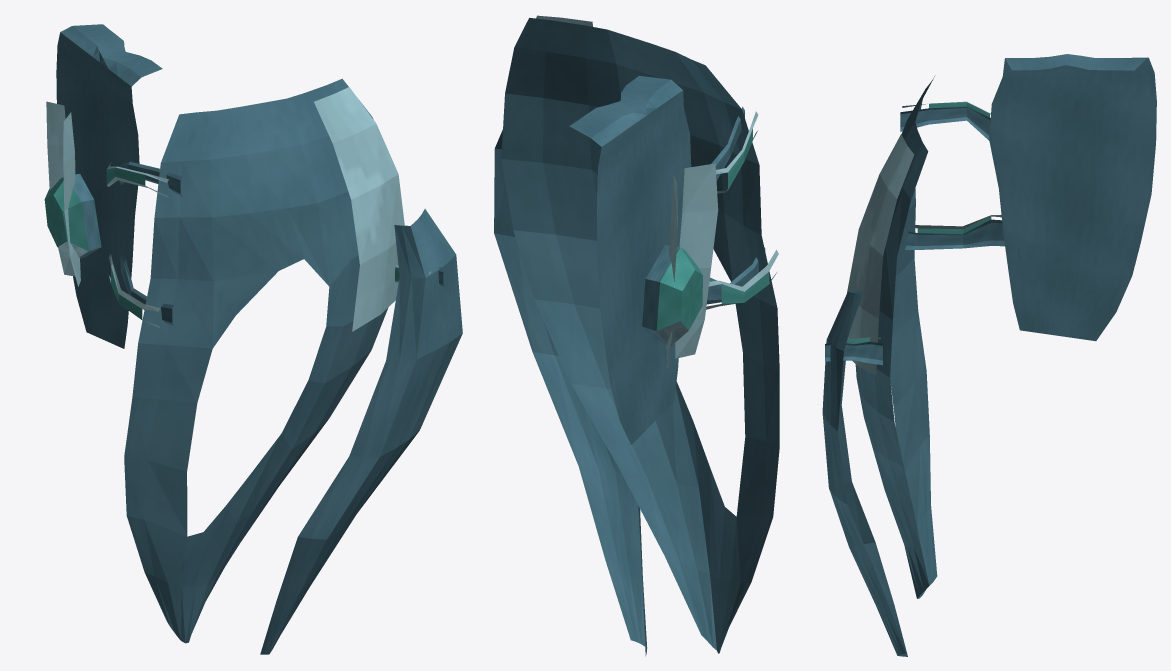
File: zhuji_baiqing_lingyun_gauntlet_3d.obj
3 views of the same model, side by side, from view 1: azimuth 30°, elevation 25°; view 2: azimuth 150°, elevation 25°; view 3: azimuth 270°, elevation 25° (orthographic). The views are drawn at different scales.
Visible parts, largest first — view 1: part_7, part_13, part_1, part_10, part_3, part_34, part_32, part_23, part_18; view 2: part_7, part_1, part_13, part_3, part_34, part_32, part_25, part_23, part_18, part_22; view 3: part_1, part_7, part_13, part_10, part_23, part_18, part_28.
Boxes of the visible parts, bbox=[...] form: part_7: bbox=[124, 78, 388, 643]; part_13: bbox=[260, 209, 462, 654]; part_1: bbox=[56, 24, 162, 348]; part_10: bbox=[314, 87, 404, 331]; part_3: bbox=[46, 101, 80, 286]; part_34: bbox=[44, 177, 88, 251]; part_32: bbox=[73, 173, 101, 258]; part_23: bbox=[120, 249, 173, 325]; part_18: bbox=[119, 159, 182, 195]; part_7: bbox=[501, 17, 779, 653]; part_1: bbox=[569, 76, 691, 444]; part_13: bbox=[494, 129, 647, 656]; part_3: bbox=[666, 163, 718, 370]; part_34: bbox=[656, 247, 702, 330]; part_32: bbox=[642, 245, 680, 345]; part_25: bbox=[721, 272, 769, 303]; part_23: bbox=[706, 247, 765, 304]; part_18: bbox=[711, 107, 744, 180]; part_22: bbox=[706, 250, 778, 309]; part_1: bbox=[989, 54, 1156, 341]; part_7: bbox=[855, 75, 937, 598]; part_13: bbox=[822, 290, 907, 656]; part_10: bbox=[847, 134, 914, 375]; part_23: bbox=[905, 219, 1004, 249]; part_18: bbox=[900, 106, 990, 140]; part_28: bbox=[825, 341, 882, 365].
Size of the model in its own units: 0.8131 by 1.45 by 0.768.
